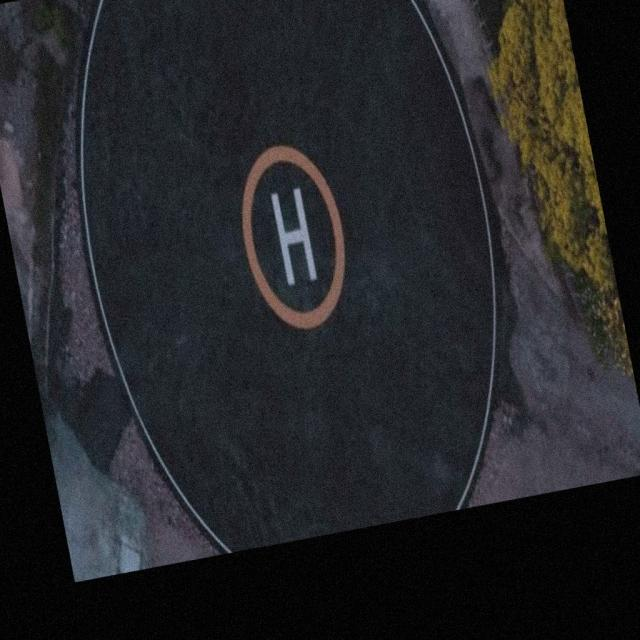helipad: (238, 140, 349, 332)
